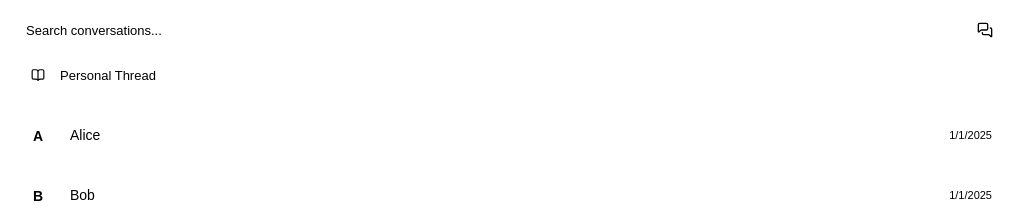
Test: ConversationList › filters conversations by search query
Type "alice" into the field with placeholder "Search conversations...".
click(490, 30); type("alice")  # box [16, 16, 964, 44]
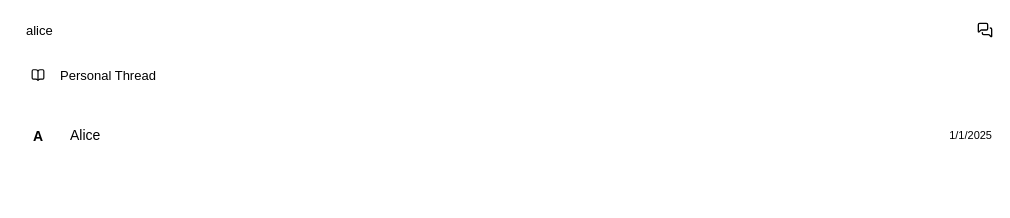
expect the text "Alice" is shown: met, box [70, 127, 100, 143]
expect the button "Bob" is gone: met
